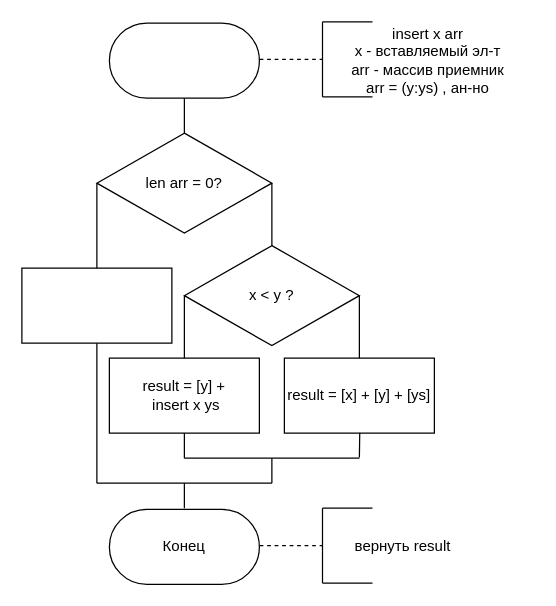
This 556x606 diagram has some shape labels left out. Each missing label, with the centre of its shape:
"result = [x]" goes at point (96, 305).
"Начало" goes at point (183, 60).
